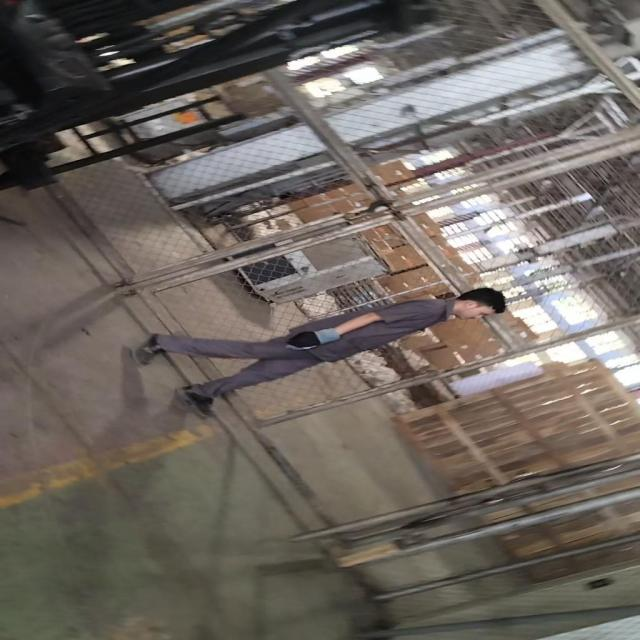Gloves-Detection: (282, 328, 347, 350)
